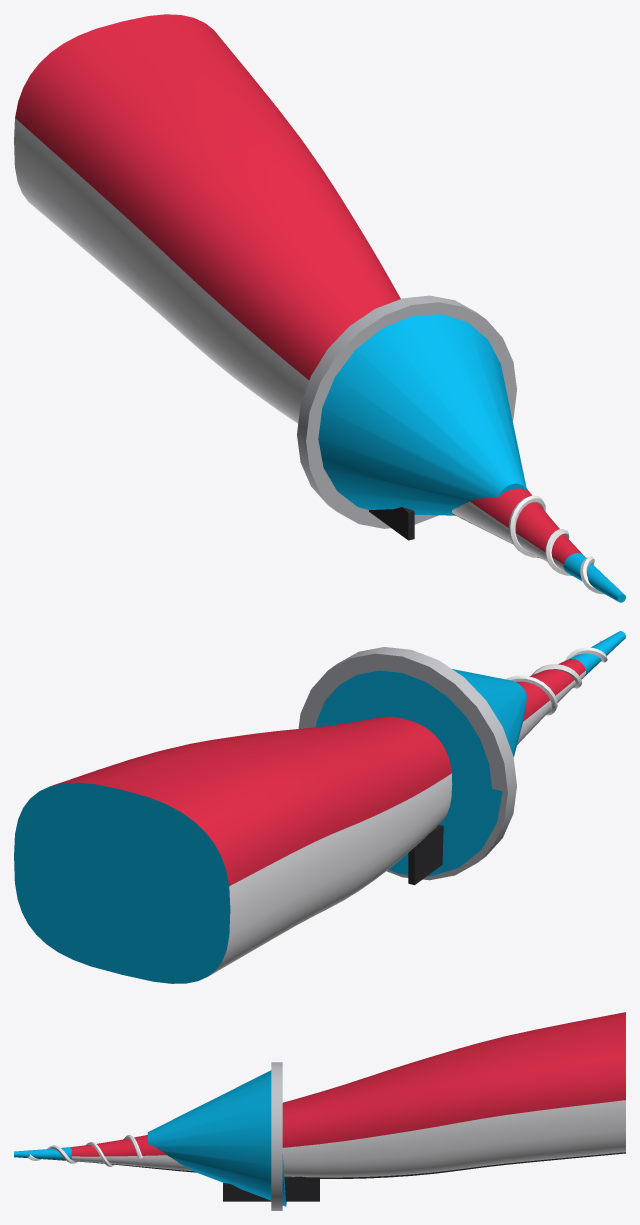
Rendered from lance.glb.
3 renders of one model, top to bottom at view 1: azimuth 30°, elevation 25°; view 2: azimuth 150°, elevation 25°; view 3: azimuth 270°, elevation 25°, orthographic. The views are drawn at different scales.
Parts seen in each view (by area): view 1: Nose_lance; view 2: Nose_lance; view 3: Nose_lance.
Part boxes in pixels (x1=…): Nose_lance: x1=14, y1=14, x2=625, y2=602; Nose_lance: x1=14, y1=631, x2=625, y2=983; Nose_lance: x1=14, y1=1012, x2=625, y2=1210.
Size of the model in its own units: 0.41 by 0.53 by 1.64.
